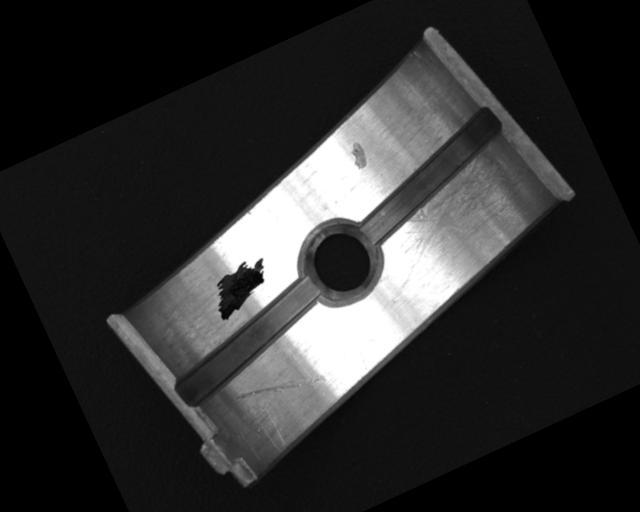blot: (203, 252, 281, 324)
bruise: (345, 139, 371, 171)
gap: (334, 103, 526, 252), (154, 271, 343, 411)
hole: (290, 208, 395, 314)
nick: (233, 357, 327, 419)
scratch: (364, 138, 546, 288)
